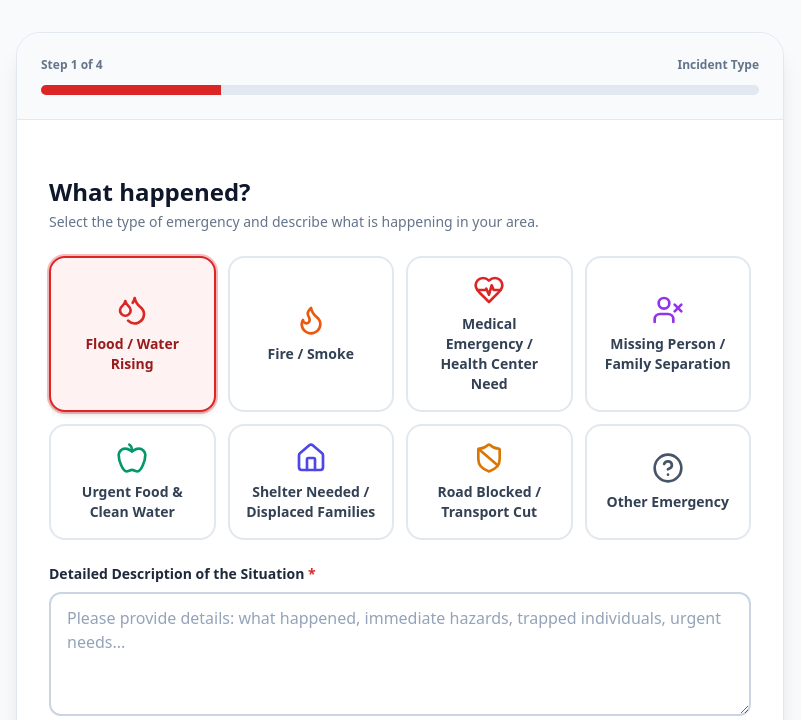
ReportWizard Component › validates address requirement on Step 2
Note: Pass Step 1
Replace the text in the text box labelled "Detailed Description of the Situation *" with "Severe river flooding entered residential homes." at x=400, y=654, box [49,592,751,716]
(page scrolled)
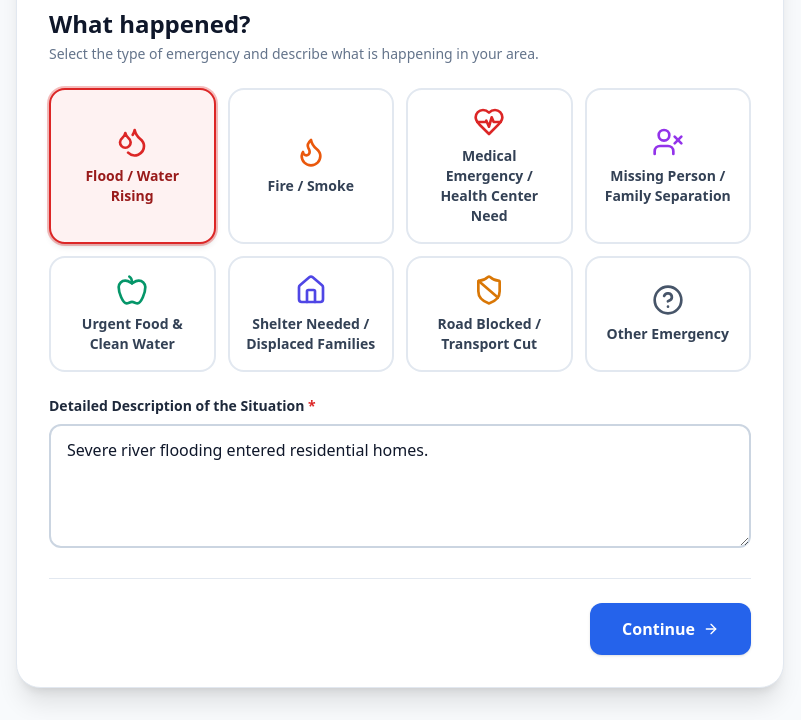
Click the button "Continue" at x=671, y=629, box [590,603,751,655]
(page scrolled)
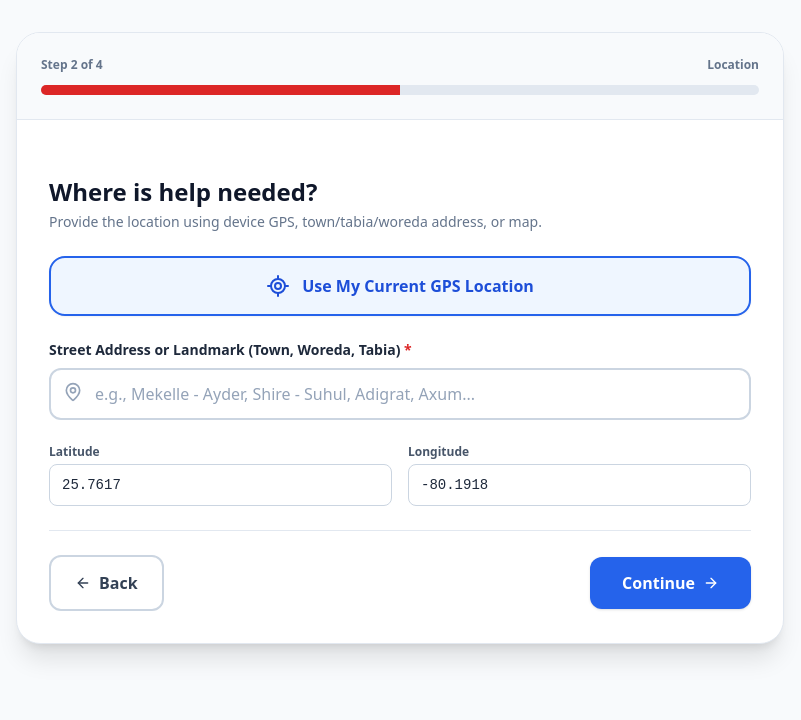
Click the button "Continue" at x=671, y=583, box [590,557,751,609]
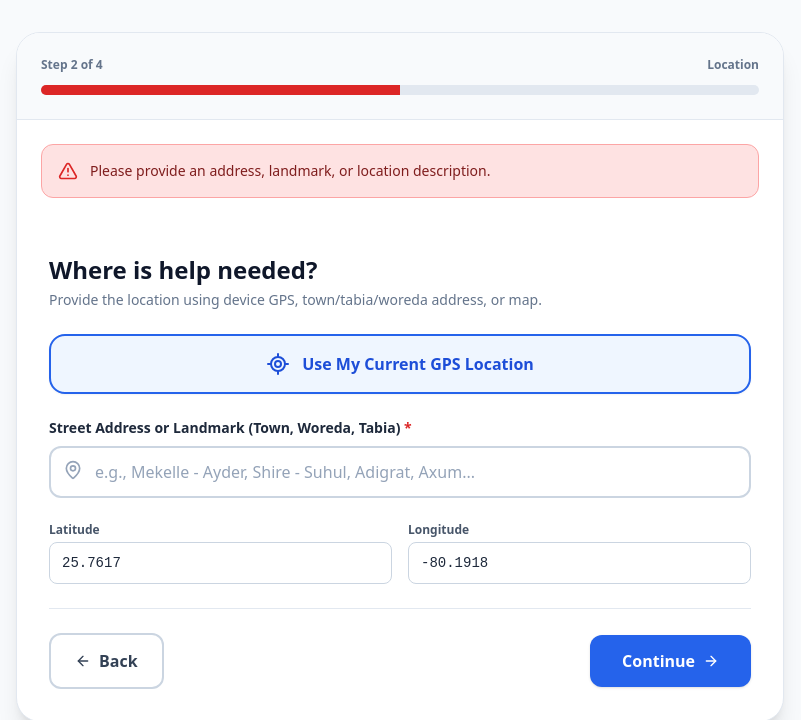
Now the text "Please provide an address" is shown, box [90,161,490,180]
Note: Fill address
Type "450 Biscayne Blvd, Miami FL" into the field labelled "Street Address or Landmark (Town, Woreda, Tabia) *" at x=400, y=472, box [49,446,751,498]
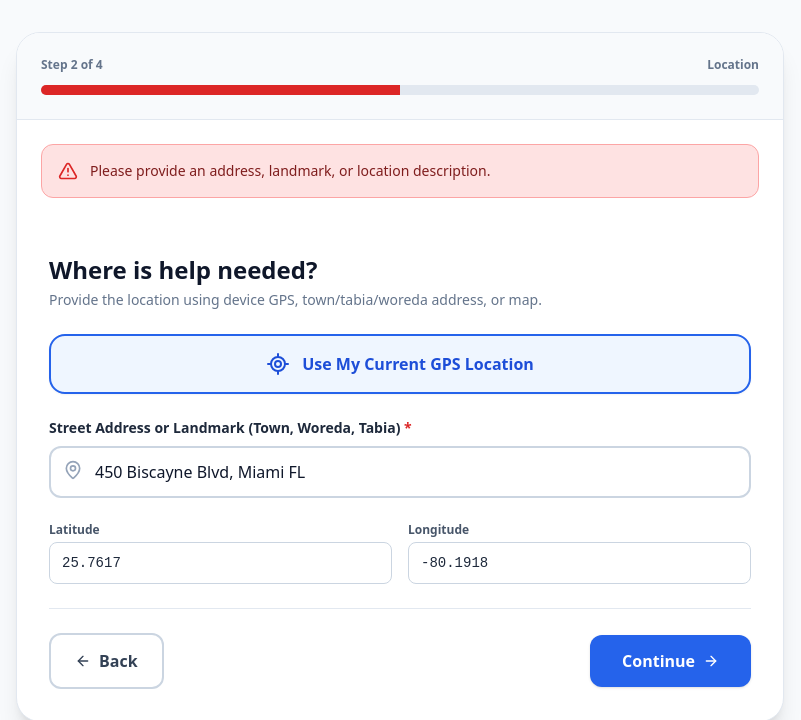
Click the button "Continue" at x=671, y=661, box [590,635,751,687]
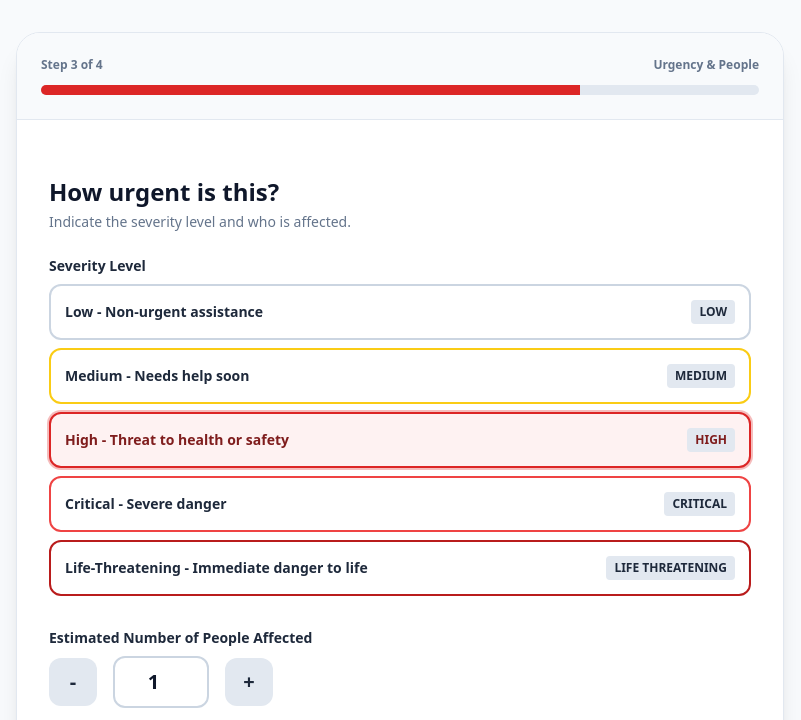
Now the heading "How urgent is this?" is shown, box [49,175,279,208]
